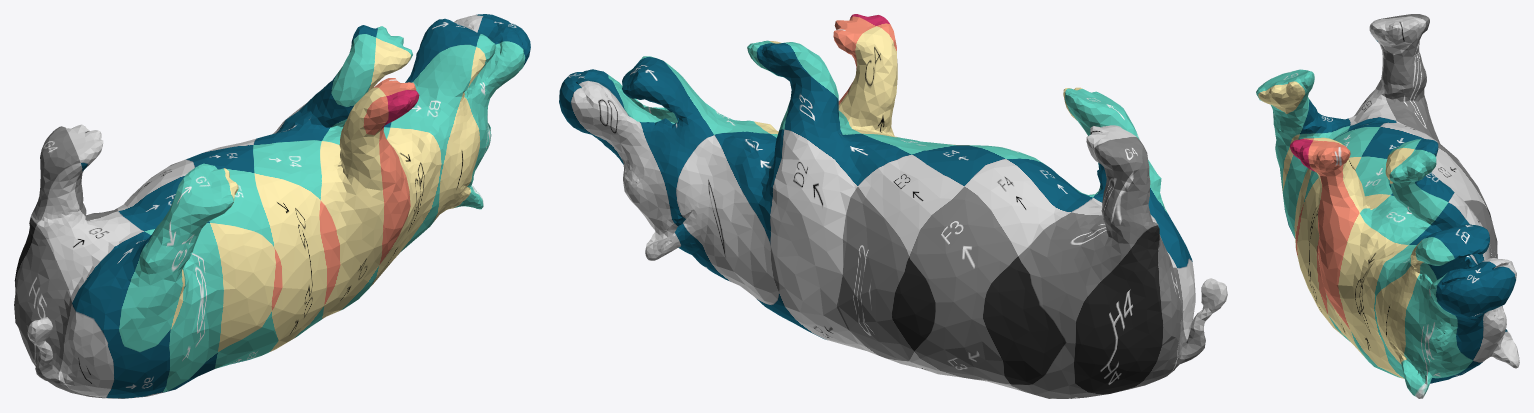
The model's file is hippo_06-hippo_01.obj.
3 renders of one model, left to right at view 1: azimuth 30°, elevation 25°; view 2: azimuth 150°, elevation 25°; view 3: azimuth 270°, elevation 25°, orthographic. The views are drawn at different scales.
Visible parts, largest first — view 1: hippo_06-hippo_01_export; view 2: hippo_06-hippo_01_export; view 3: hippo_06-hippo_01_export.
Boxes of the visible parts, bbox=[...] form: hippo_06-hippo_01_export: bbox=[14, 14, 530, 398]; hippo_06-hippo_01_export: bbox=[559, 14, 1227, 398]; hippo_06-hippo_01_export: bbox=[1256, 14, 1519, 398].
Size of the model in its own units: 0.982 by 0.4752 by 0.402.
